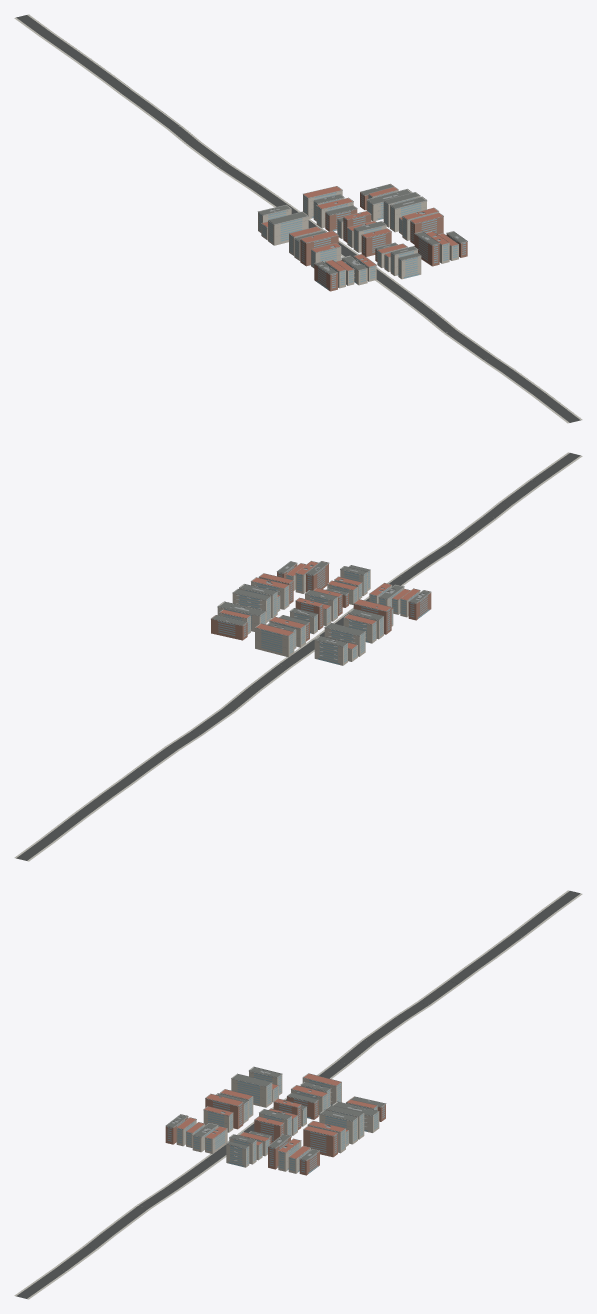
Rendered from tile-p002-m001.glb.
The picture shows the model from 3 angles, top to bottom: view 1: azimuth 30°, elevation 25°; view 2: azimuth 150°, elevation 25°; view 3: azimuth 330°, elevation 25°; orthographic projection.
Parts seen in each view (by area): view 1: road-v-17-mesh-1, road-v-17-mesh-0, building-1087-mesh-73; view 2: road-v-17-mesh-1, road-v-17-mesh-0, building-1162-mesh-163, building-1085-mesh-59, building-1229-mesh-239; view 3: road-v-17-mesh-1, road-v-17-mesh-0, building-1226-mesh-221, building-1087-mesh-73.
Part boxes in pixels (bbox=[...]): road-v-17-mesh-1: bbox=[16, 15, 580, 422]; road-v-17-mesh-0: bbox=[14, 14, 582, 423]; building-1087-mesh-73: bbox=[268, 212, 308, 245]; road-v-17-mesh-1: bbox=[16, 453, 580, 860]; road-v-17-mesh-0: bbox=[14, 452, 582, 861]; building-1162-mesh-163: bbox=[255, 624, 294, 657]; building-1085-mesh-59: bbox=[314, 636, 347, 665]; building-1229-mesh-239: bbox=[211, 615, 247, 640]; road-v-17-mesh-1: bbox=[16, 891, 580, 1298]; road-v-17-mesh-0: bbox=[14, 890, 582, 1299]; building-1226-mesh-221: bbox=[303, 1126, 337, 1157]; building-1087-mesh-73: bbox=[231, 1075, 272, 1107].
Bounding box in the file's own units: 244 × 38.3 × 1600.
